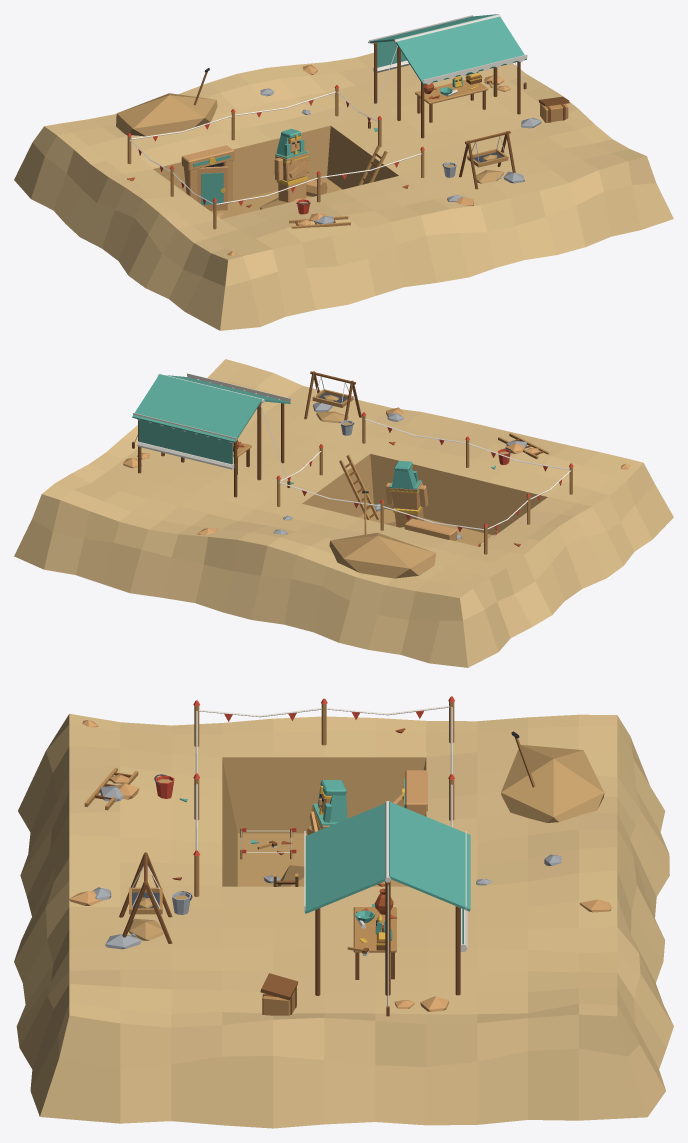
The model's file is desert-dig-site.glb.
3 renders of one model, top to bottom at view 1: azimuth 30°, elevation 25°; view 2: azimuth 150°, elevation 25°; view 3: azimuth 270°, elevation 25°, orthographic. The views are drawn at different scales.
Parts seen in each view (by area): view 1: Ground_Sand, TentCanopy_Front, SpoilHeap, Tomb_Lintel, Table_Top, TombDoor_Panel, TombDoor, TentCanopy_Back, TentValance_Front, TentFlap_Cloth, Statue_Kilt; view 2: Ground_Sand, TentCanopy_Back, SpoilHeap, TentFlap_Cloth, Tomb_Lintel, Statue_Torso, TentFlap_Roll, TentCanopy_Front; view 3: Ground_Sand, TentCanopy_Back, TentCanopy_Front, SpoilHeap, Table_Top, Tomb_Lintel, TentPole_Ridge_24, CrateLid, Crate.
Boxes of the visible parts, left/top/right/bottom form: Ground_Sand: left=14, top=53, right=673, bottom=330; TentCanopy_Front: left=396, top=16, right=526, bottom=84; SpoilHeap: left=116, top=93, right=217, bottom=136; Tomb_Lintel: left=181, top=145, right=234, bottom=170; Table_Top: left=415, top=80, right=488, bottom=104; TombDoor_Panel: left=201, top=172, right=223, bottom=204; TombDoor: left=197, top=166, right=227, bottom=210; TentCanopy_Back: left=368, top=14, right=498, bottom=42; TentValance_Front: left=423, top=54, right=527, bottom=84; TentFlap_Cloth: left=377, top=41, right=406, bottom=67; Statue_Kilt: left=278, top=180, right=306, bottom=202; Ground_Sand: left=14, top=359, right=673, bottom=667; TentCanopy_Back: left=132, top=374, right=261, bottom=442; SpoilHeap: left=329, top=532, right=436, bottom=578; TentFlap_Cloth: left=139, top=420, right=232, bottom=464; Tomb_Lintel: left=404, top=518, right=457, bottom=540; Statue_Torso: left=389, top=482, right=422, bottom=509; TentFlap_Roll: left=137, top=441, right=234, bottom=469; TentCanopy_Front: left=167, top=375, right=290, bottom=403; Ground_Sand: left=14, top=713, right=673, bottom=1128; TentCanopy_Back: left=389, top=801, right=470, bottom=911; TentCanopy_Front: left=304, top=803, right=385, bottom=913; SpoilHeap: left=501, top=745, right=604, bottom=822; Table_Top: left=353, top=907, right=396, bottom=952; Tomb_Lintel: left=405, top=770, right=427, bottom=815; TentPole_Ridge_24: left=385, top=881, right=390, bottom=995; CrateLid: left=260, top=973, right=298, bottom=1000; Crate: left=262, top=987, right=296, bottom=1015.
Size of the model in its own units: 65.21 by 17.18 by 51.79.
